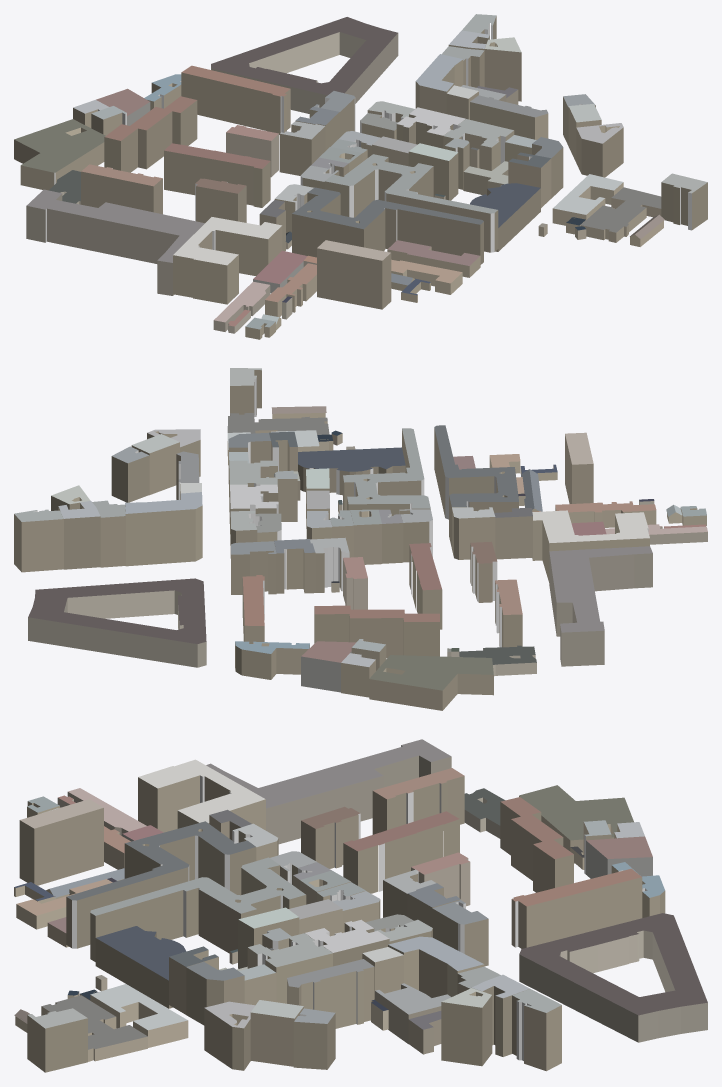
3 views of the same model, one above another, from view 1: azimuth 30°, elevation 25°; view 2: azimuth 150°, elevation 25°; view 3: azimuth 270°, elevation 25° (orthographic). The views are drawn at different scales.
Visible parts, largest first — view 1: tuile; view 2: tuile; view 3: tuile.
Part boxes in pixels (x1=…): tuile: x1=14, y1=14, x2=707, y2=339; tuile: x1=14, y1=368, x2=707, y2=710; tuile: x1=14, y1=739, x2=707, y2=1072.
Size of the model in its own units: 290 by 31.23 by 281.
